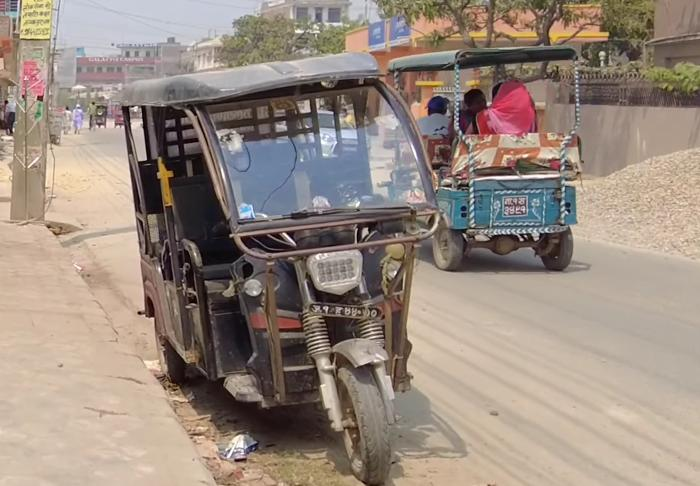e-rickshaw: (118, 45, 440, 486), (380, 48, 580, 274), (95, 100, 107, 129)
